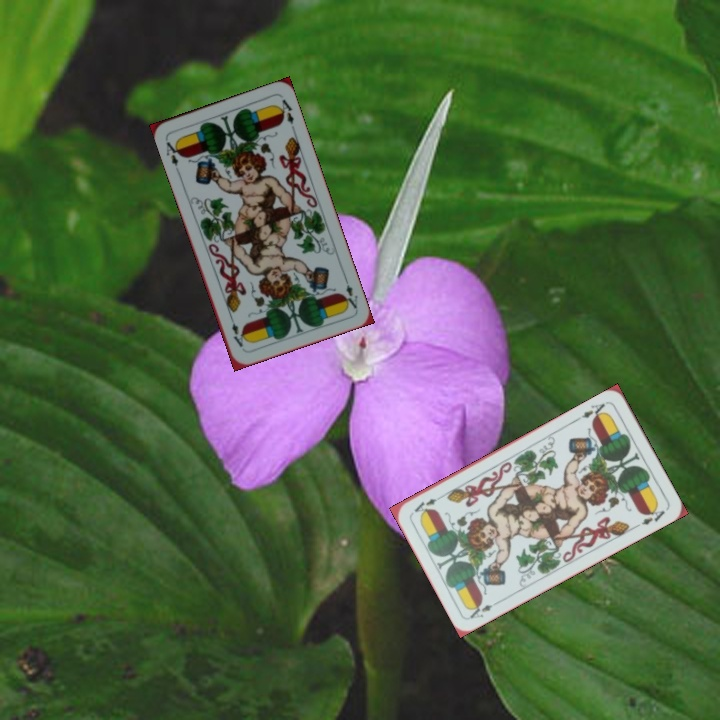EA: (573, 398, 610, 423), (466, 596, 503, 621), (339, 272, 360, 311), (161, 135, 185, 169)
